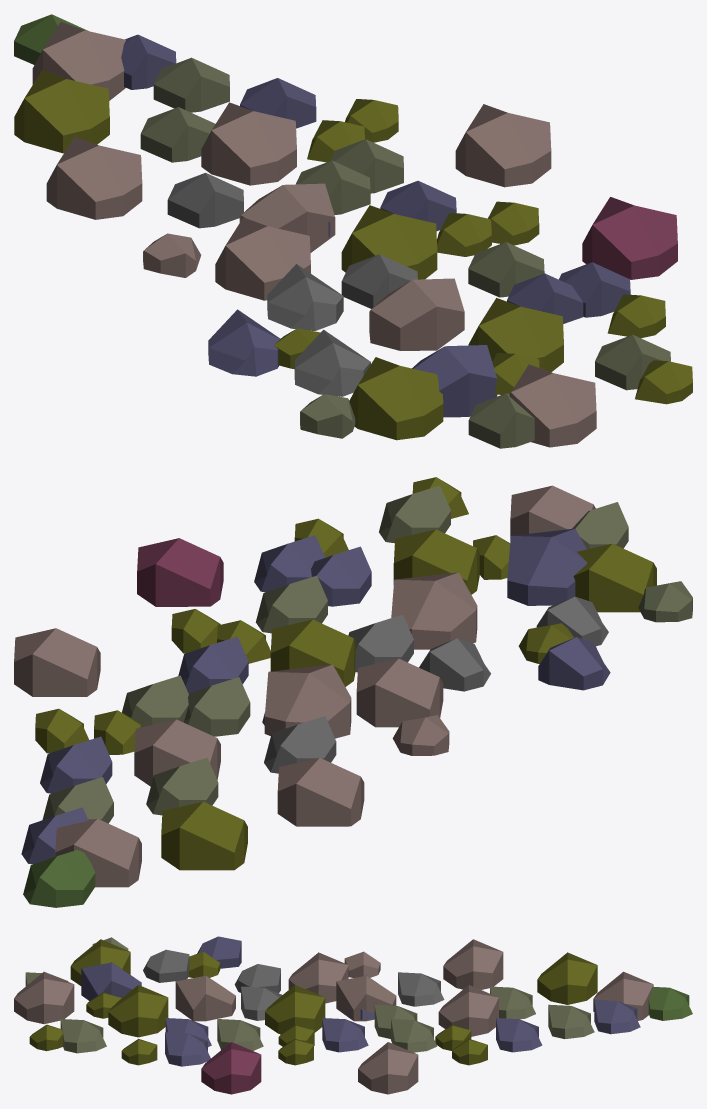
File: Stones.obj
3 views of the same model, one above another, from view 1: azimuth 30°, elevation 25°; view 2: azimuth 150°, elevation 25°; view 3: azimuth 270°, elevation 25° (orthographic). The views are drawn at different scales.
Visible parts, largest first — view 1: Cube.679_Cube.685, Cube.642_Cube.648, Cube.702_Cube.708, Cube.694_Cube.700, Cube.658_Cube.664, Cube.645_Cube.651, Cube.629_Cube.635, Cube.635_Cube.641, Cube.678_Cube.684, Cube.686_Cube.692, Cube.695_Cube.701, Cube.687_Cube.693 (+30 smaller); view 2: Cube.642_Cube.648, Cube.645_Cube.651, Cube.629_Cube.635, Cube.694_Cube.700, Cube.679_Cube.685, Cube.628_Cube.634, Cube.633_Cube.639, Cube.635_Cube.641, Cube.658_Cube.664, Cube.695_Cube.701, Cube.686_Cube.692, Cube.702_Cube.708 (+30 smaller); view 3: Cube.679_Cube.685, Cube.694_Cube.700, Cube.645_Cube.651, Cube.678_Cube.684, Cube.687_Cube.693, Cube.642_Cube.648, Cube.629_Cube.635, Cube.702_Cube.708, Cube.686_Cube.692, Cube.633_Cube.639, Cube.635_Cube.641, Cube.628_Cube.634 (+28 smaller).
Boxes of the visible parts, x1,y1,x2,y2 form: Cube.679_Cube.685: (455,104,551,187); Cube.642_Cube.648: (46,136,142,219); Cube.702_Cube.708: (201,102,296,185); Cube.694_Cube.700: (582,197,677,279); Cube.658_Cube.664: (349,357,443,440); Cube.645_Cube.651: (14,70,109,153); Cube.629_Cube.635: (369,278,464,350); Cube.635_Cube.641: (215,217,310,300); Cube.678_Cube.684: (509,364,596,447); Cube.686_Cube.692: (341,205,437,279); Cube.695_Cube.701: (32,21,125,100); Cube.687_Cube.693: (468,298,563,372); Cube.642_Cube.648: (277,758,364,826); Cube.645_Cube.651: (161,801,247,870); Cube.629_Cube.635: (391,572,477,649); Cube.694_Cube.700: (137,538,223,606); Cube.679_Cube.685: (14,628,100,696); Cube.628_Cube.634: (507,528,587,605); Cube.633_Cube.639: (264,664,351,738); Cube.635_Cube.641: (356,658,443,727); Cube.658_Cube.664: (573,543,656,612); Cube.695_Cube.701: (55,818,141,887); Cube.686_Cube.692: (270,619,356,686); Cube.702_Cube.708: (134,719,220,786); Cube.679_Cube.685: (358,1042,418,1094); Cube.694_Cube.700: (201,1042,261,1094); Cube.645_Cube.651: (537,952,597,1004); Cube.678_Cube.684: (14,971,74,1024); Cube.687_Cube.693: (108,985,168,1037); Cube.642_Cube.648: (443,939,503,989); Cube.629_Cube.635: (175,975,235,1021); Cube.702_Cube.708: (438,985,498,1036); Cube.686_Cube.692: (265,985,325,1034); Cube.633_Cube.639: (336,975,396,1021); Cube.635_Cube.641: (288,952,348,1003); Cube.628_Cube.634: (81,962,141,1000).
Size of the model in its own units: 5.22 by 0.5589 by 10.48.
